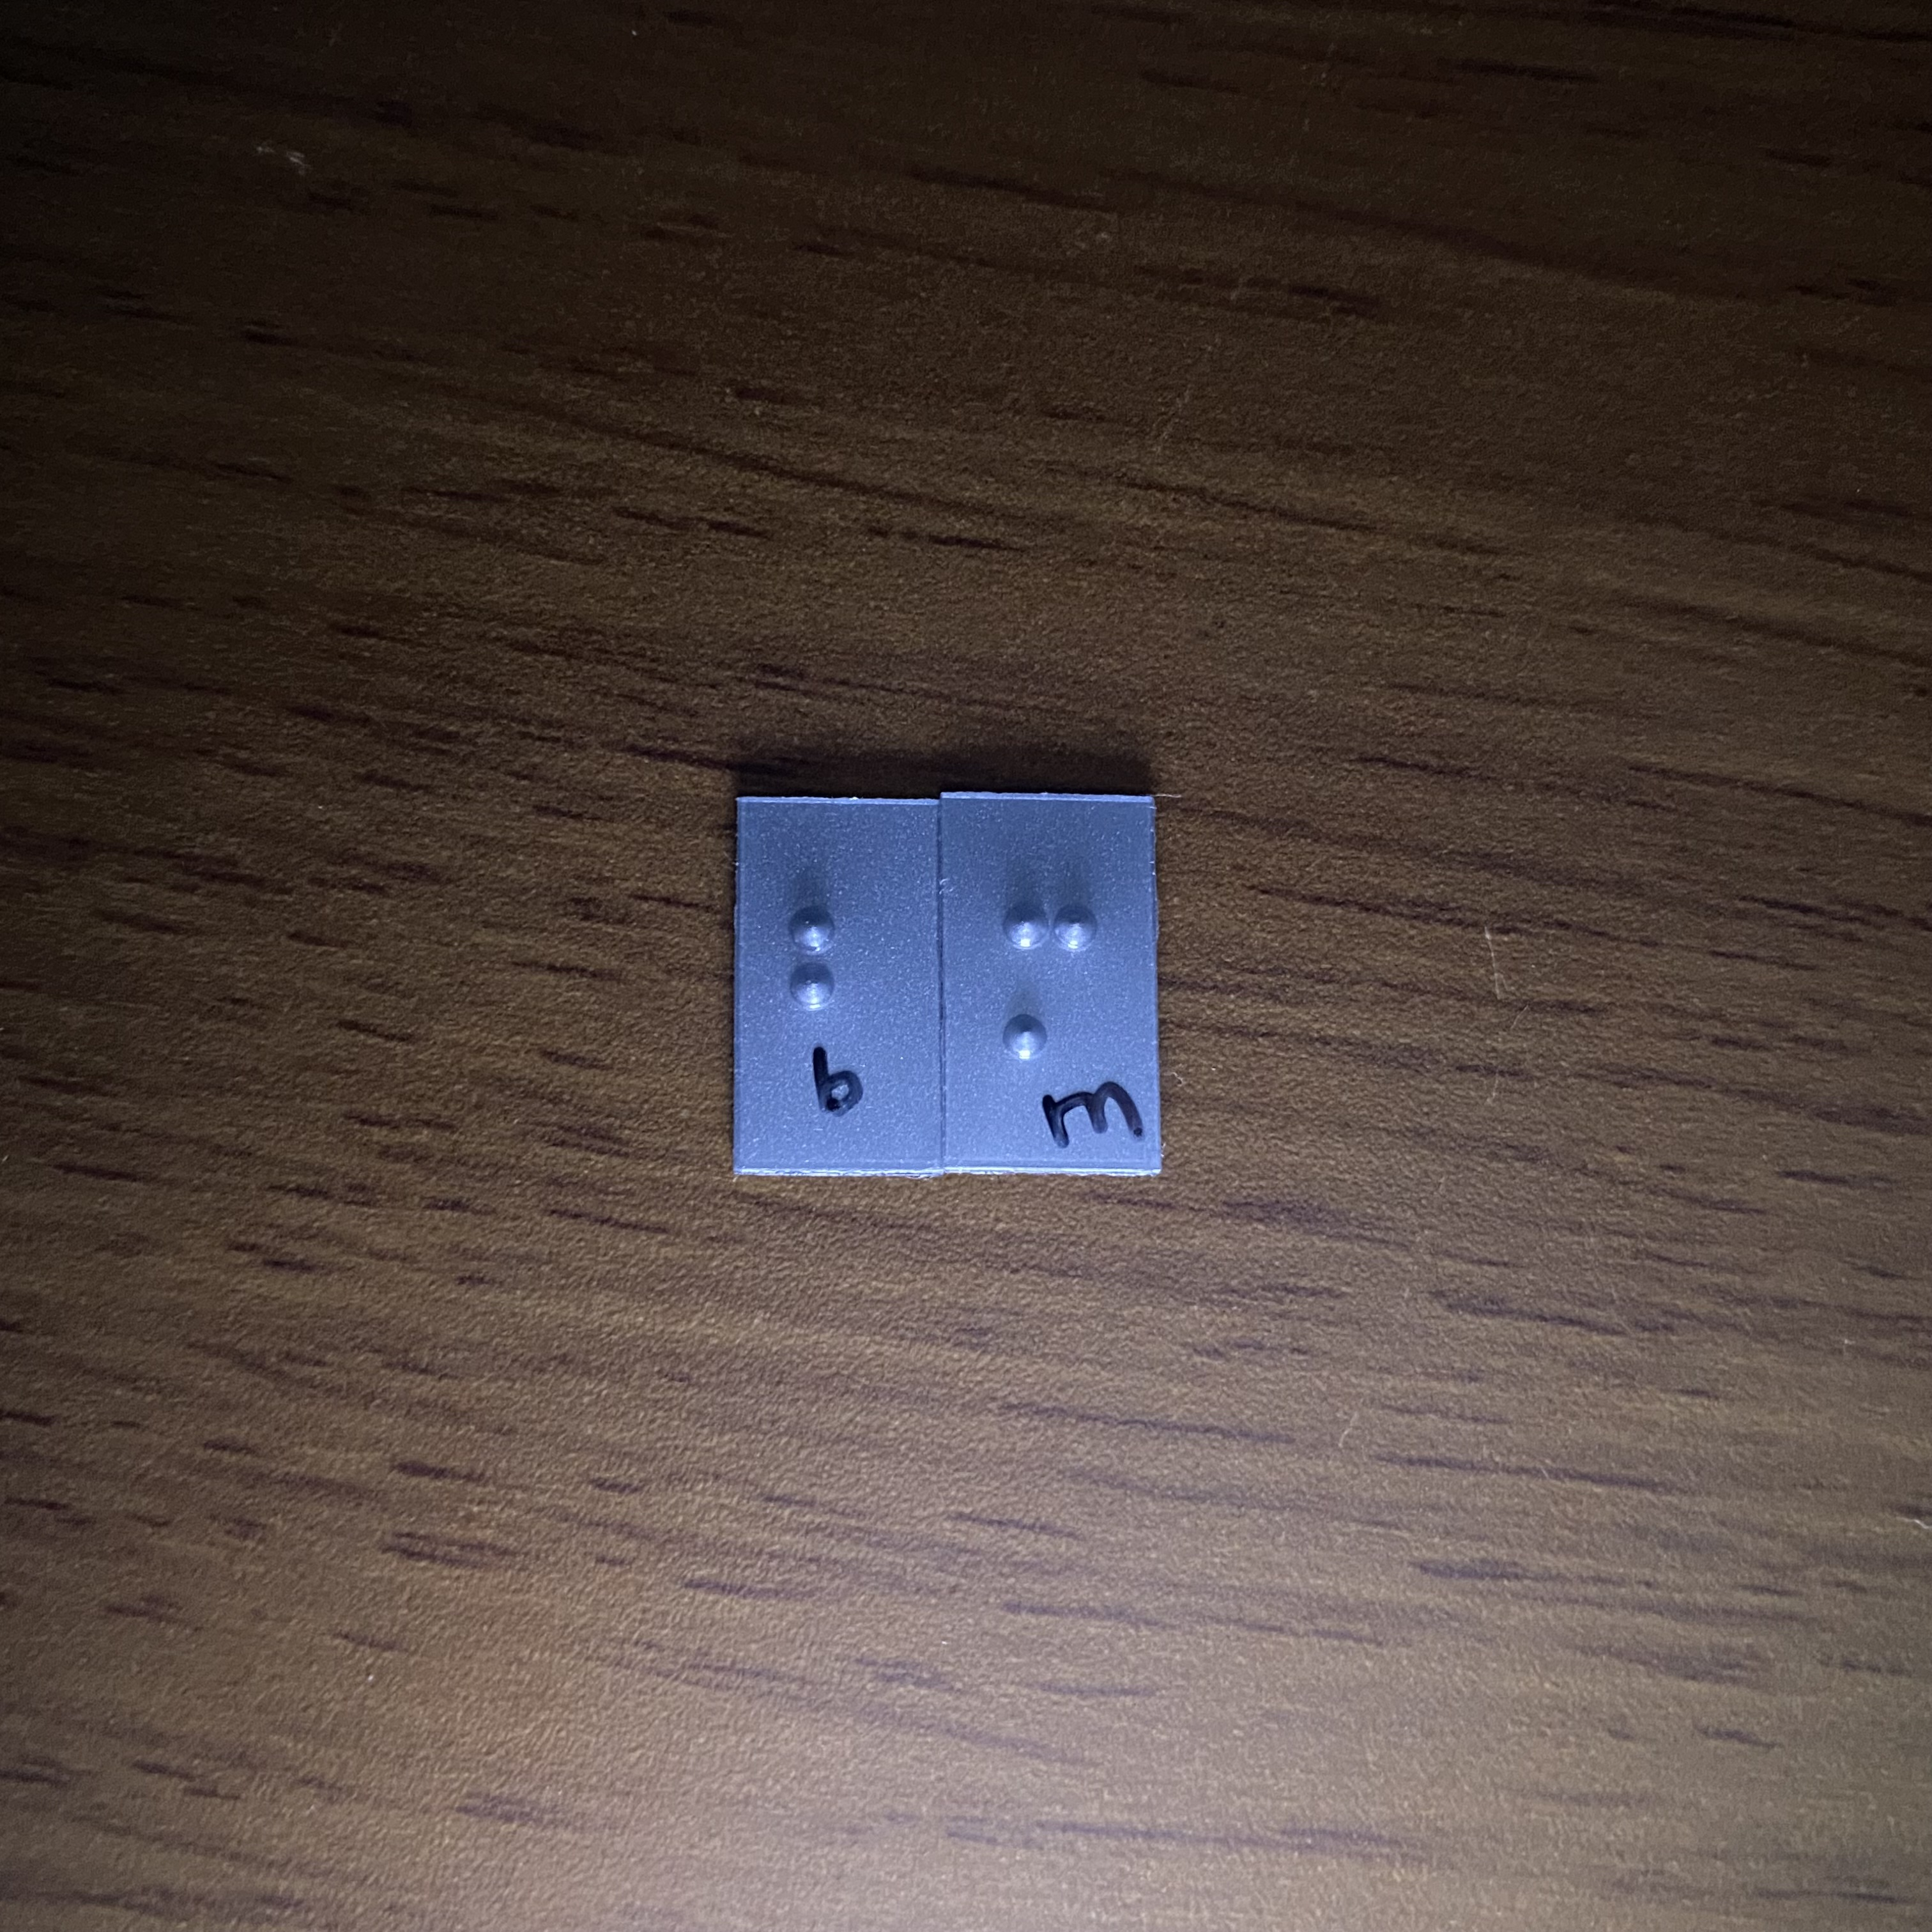b: (780, 863, 897, 1088)
m: (990, 859, 1113, 1084)
